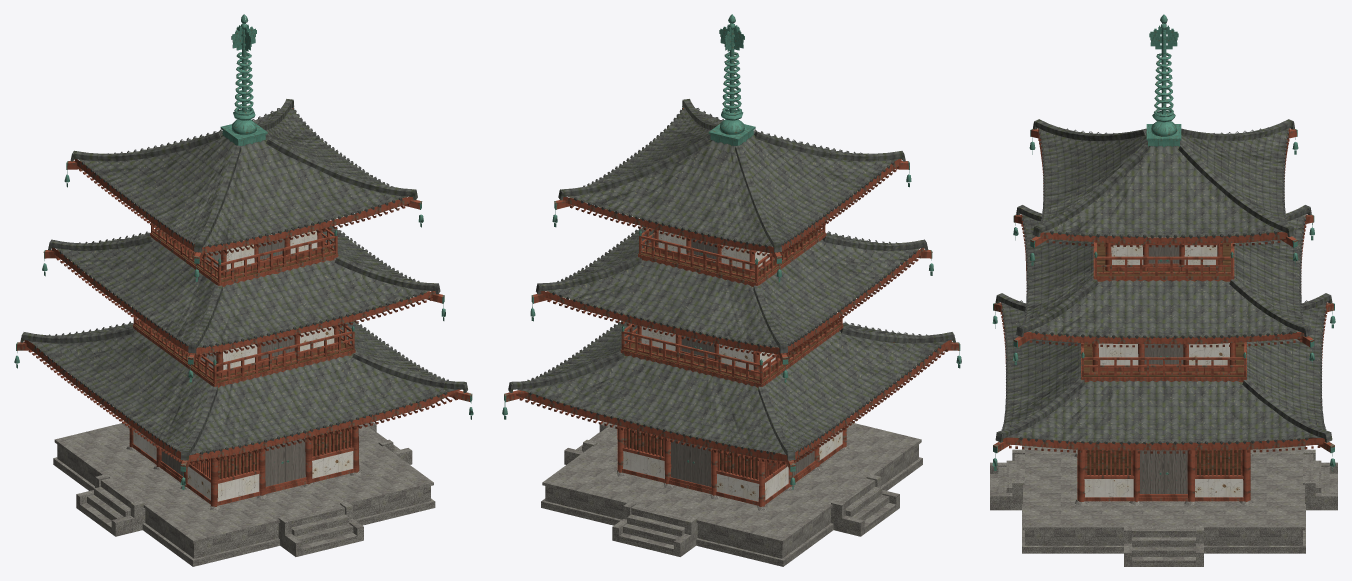
Rendered from Pagoda-progressive.preview.glb.
3 renders of one model, left to right at view 1: azimuth 30°, elevation 25°; view 2: azimuth 150°, elevation 25°; view 3: azimuth 270°, elevation 25°, orthographic.
Parts seen in each view (by area): view 1: Roof 1, Roof 3, Platform, Roof 2, Storey 1, Storey 2, Storey 3, Finial; view 2: Roof 1, Roof 3, Platform, Roof 2, Storey 1, Storey 2, Storey 3, Finial; view 3: Roof 1, Roof 3, Platform, Roof 2, Storey 1, Storey 2, Storey 3, Finial.
Part boxes in pixels (x1,y1,x2,y2): Roof 1: (14,320,473,489); Roof 3: (64,99,423,281); Platform: (53,422,435,566); Roof 2: (42,221,445,382); Storey 1: (129,425,359,506); Storey 2: (133,309,355,387); Storey 3: (150,222,338,286); Finial: (220,14,267,145); Roof 1: (502,320,961,489); Roof 3: (552,99,911,281); Platform: (541,422,922,566); Roof 2: (530,220,933,382); Storey 1: (617,425,846,506); Storey 2: (620,315,843,387); Storey 3: (638,222,826,286); Finial: (708,14,755,145); Roof 1: (992,293,1335,471); Roof 3: (1029,119,1298,265); Platform: (990,438,1337,566); Roof 2: (1013,205,1314,365); Storey 1: (1077,449,1250,501); Storey 2: (1081,342,1246,382); Storey 3: (1093,235,1234,281); Finial: (1146,14,1181,146).
Bounding box in the file's own units: 13.52 × 20.57 × 13.52.
11 materials, 11 textured.
